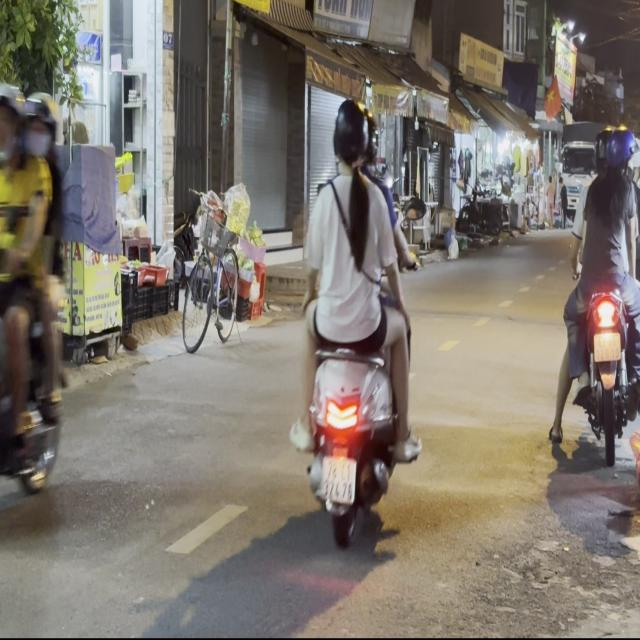helmet: (330, 96, 368, 170), (17, 92, 58, 160), (0, 84, 25, 167), (604, 126, 632, 176), (592, 126, 610, 172)
licenseplate: (289, 92, 420, 560), (0, 83, 73, 549), (548, 117, 640, 457)
nohelmet: (322, 456, 355, 501), (593, 331, 620, 359)
